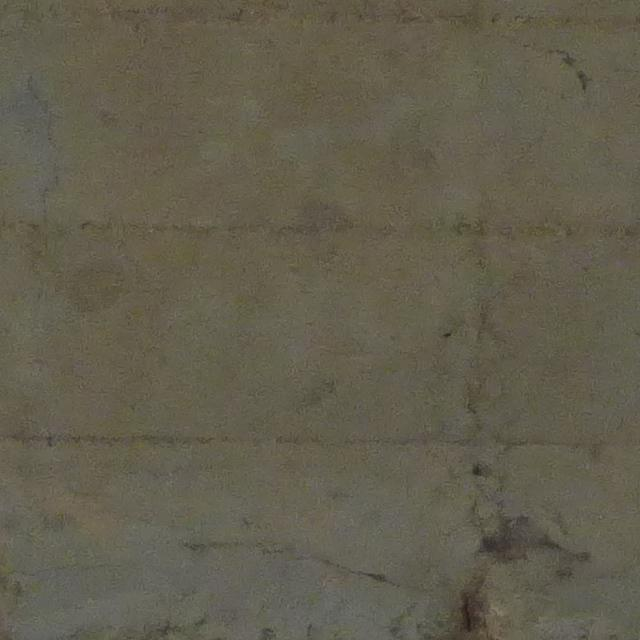Rust: (455, 597, 479, 635)
